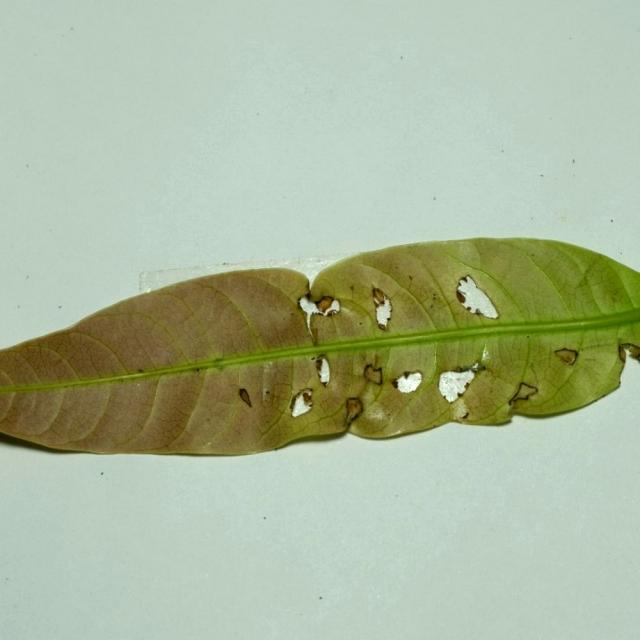Anthracnose: (179, 342, 332, 452), (309, 263, 435, 373), (525, 337, 629, 415), (348, 358, 438, 434), (448, 365, 522, 425), (295, 289, 366, 346), (369, 284, 433, 345), (370, 336, 432, 394), (304, 294, 353, 356)
Mango: (0, 238, 639, 460)
